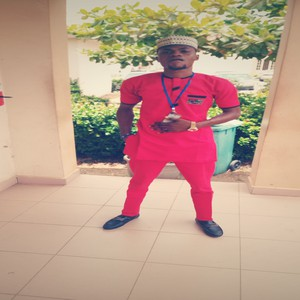Fulokoja_male_student: (120, 37, 223, 237)
